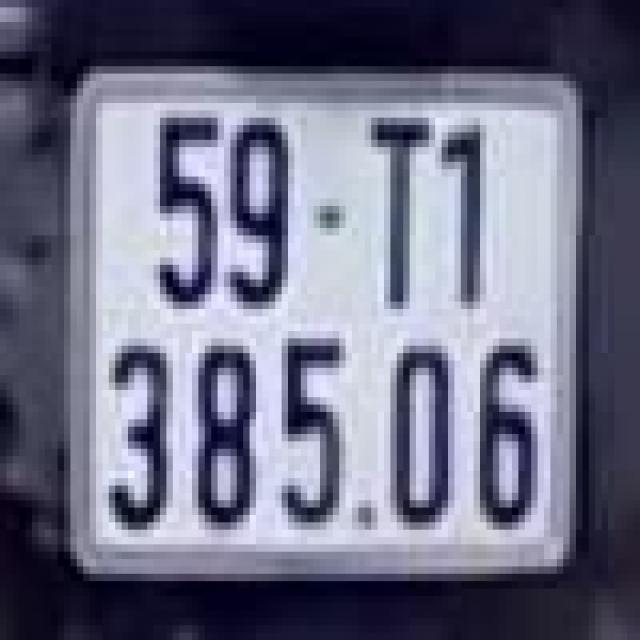0: (378, 335, 460, 533)
1: (432, 106, 502, 312)
3: (93, 331, 176, 537)
5: (269, 327, 352, 541), (150, 103, 228, 316)
6: (464, 331, 554, 537)
8: (188, 331, 266, 537)
9: (227, 99, 298, 313)
T: (358, 95, 436, 324)
